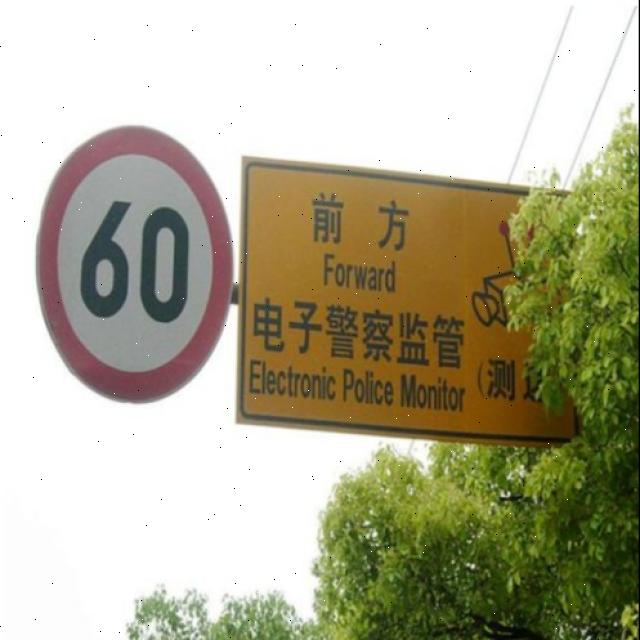speed limit 60: (38, 124, 234, 404)
